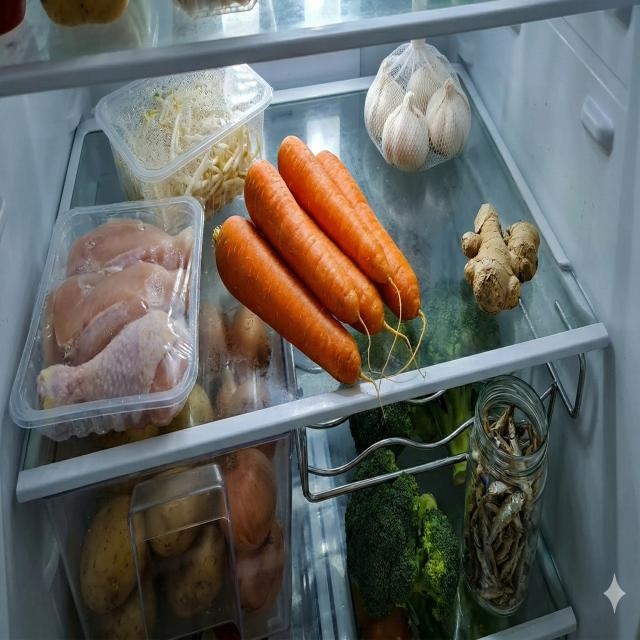anchovies: (464, 404, 544, 611)
bean_sprouts: (116, 86, 262, 236)
brocolli: (340, 275, 502, 487), (345, 448, 460, 625)
carrot: (215, 136, 422, 384)
chicken: (35, 216, 195, 411)
garlic: (364, 37, 472, 172)
ginger: (462, 201, 540, 318)
onion: (218, 448, 285, 615)
potato: (80, 465, 226, 640)
